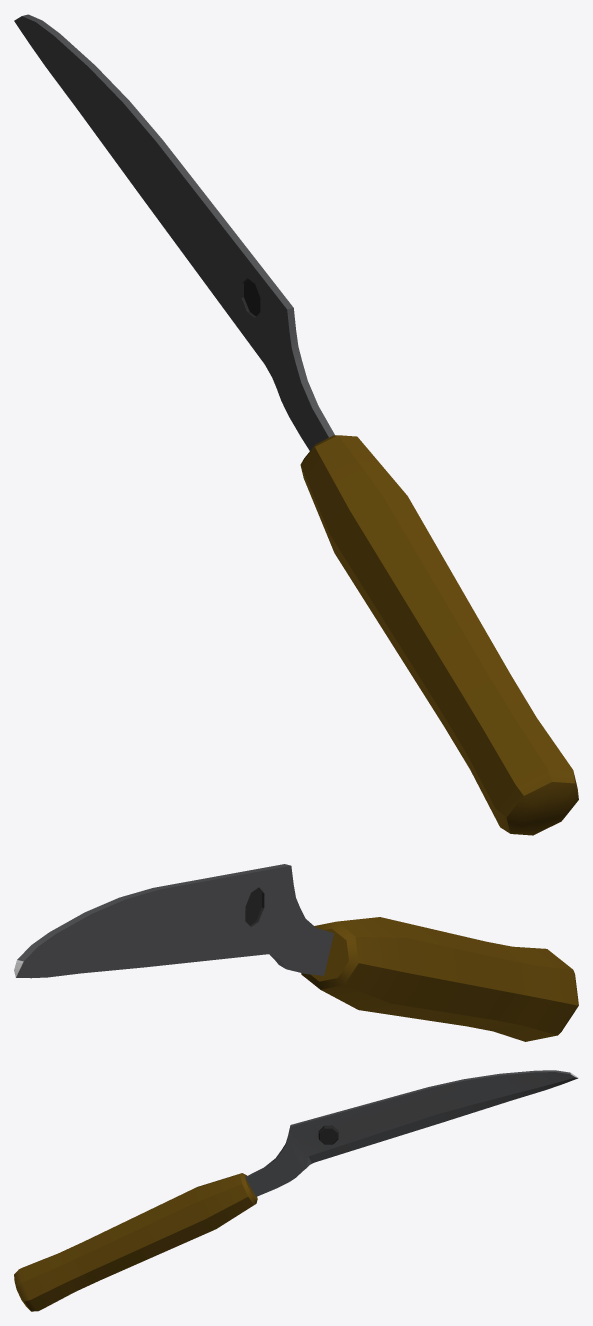
File: TijeraDerRota.fbx
The picture shows the model from 3 angles, top to bottom: view 1: azimuth 30°, elevation 25°; view 2: azimuth 150°, elevation 25°; view 3: azimuth 270°, elevation 25°; orthographic projection. The views are drawn at different scales.
Visible parts, largest first — view 1: TijeraRotaDer; view 2: TijeraRotaDer; view 3: TijeraRotaDer.
Boxes of the visible parts, bbox=[...] form: TijeraRotaDer: bbox=[14, 14, 578, 835]; TijeraRotaDer: bbox=[14, 864, 578, 1041]; TijeraRotaDer: bbox=[14, 1070, 578, 1311].
Size of the model in its own units: 5.41 by 28.5 by 61.05.
